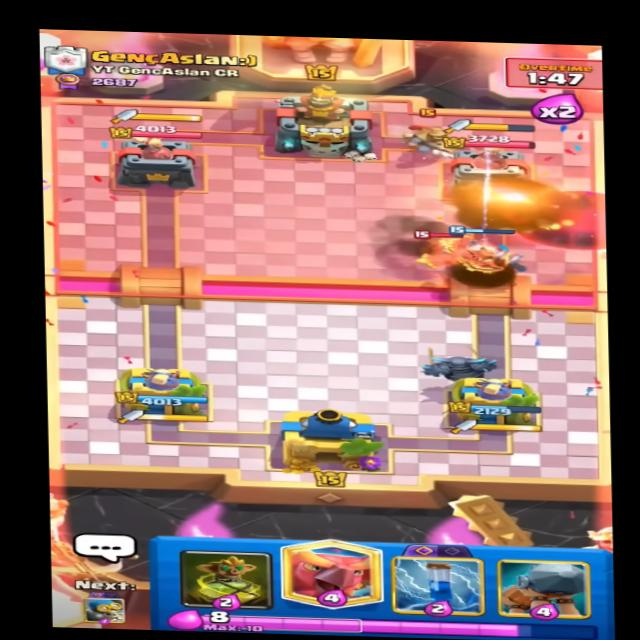phoenix: (383, 223, 497, 277)
prince: (399, 107, 474, 166)
